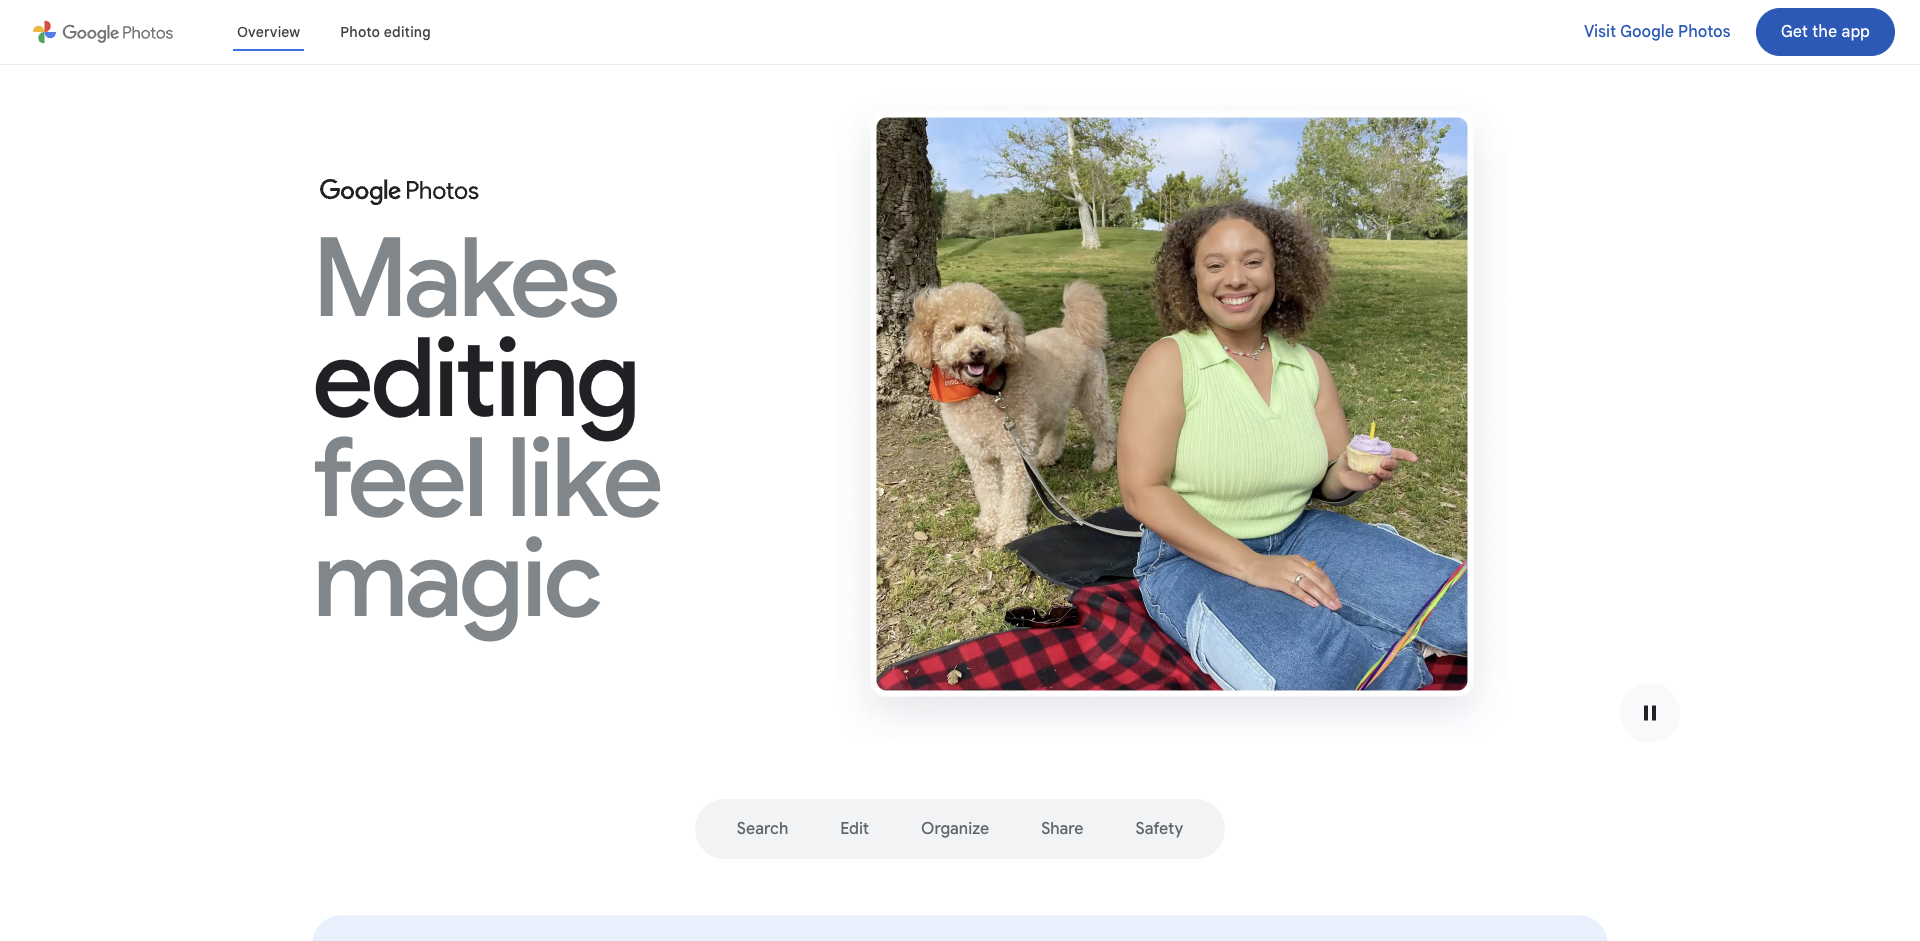button: (1571, 9, 1896, 56), (1571, 9, 1744, 56), (1756, 9, 1896, 56), (1217, 805, 1357, 853), (1620, 682, 1680, 743)
link: (17, 12, 189, 51), (899, 805, 1011, 853), (715, 805, 811, 853), (1113, 805, 1205, 853), (1019, 805, 1106, 853), (332, 13, 438, 50), (818, 805, 891, 853), (229, 13, 309, 50)
